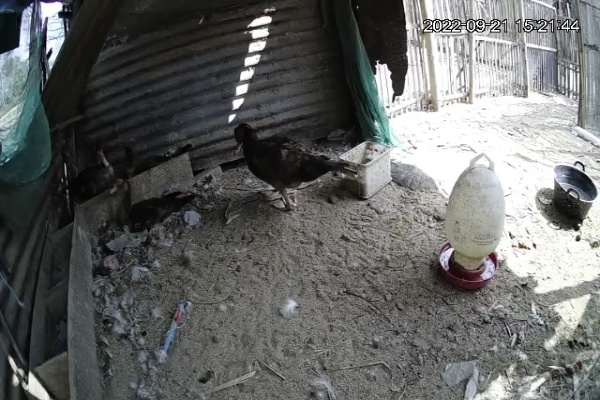Entog: (225, 117, 350, 209)
